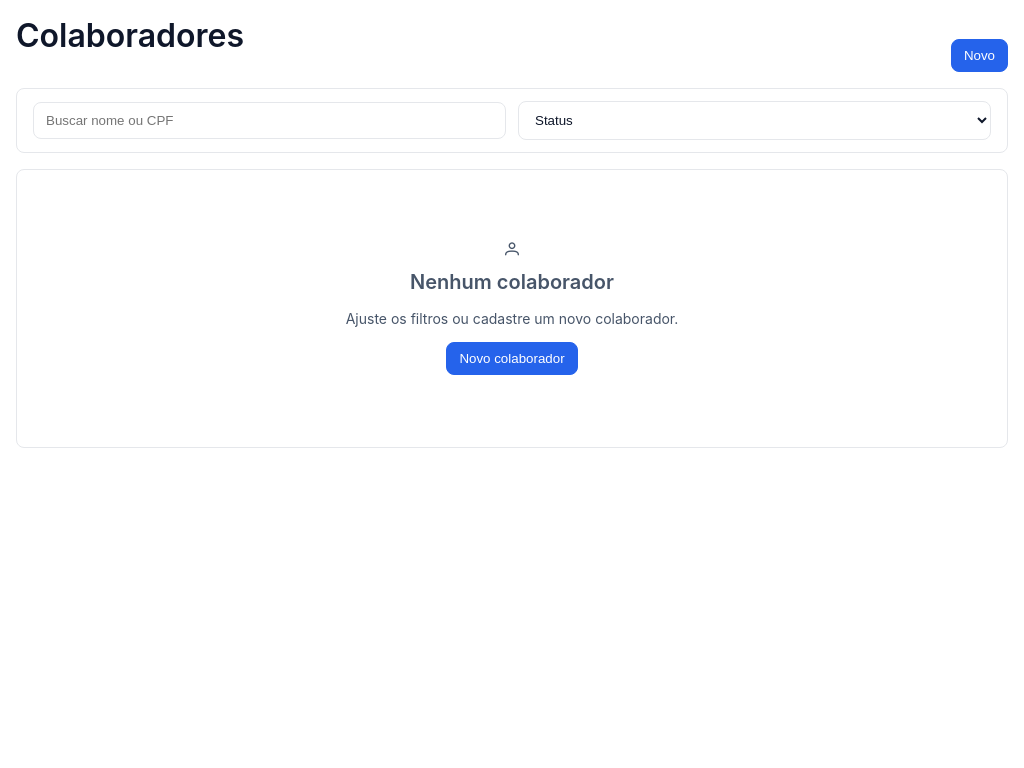
Test: Form Validation (client-only) › Collaborators: Save disabled until required fields and valid CPF (11 digits)
Open create editor
Click the button "Novo".
click(979, 56)  # box [951, 39, 1008, 72]
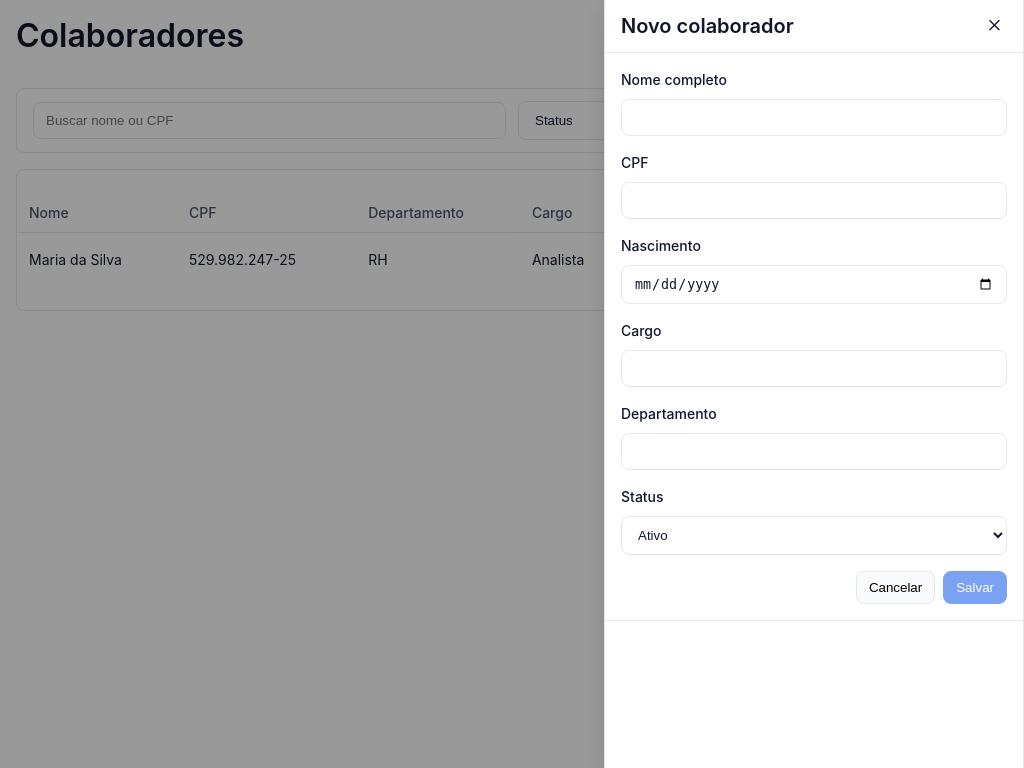
expect the submit button is disabled: met, box [943, 571, 1007, 604]
Fill required fields with invalid CPF
Type "Nome Teste" into the field with id "fullName".
click(814, 118); type("Nome Teste")  # box [621, 99, 1007, 136]
Type "1234567890" into the field with id "cpf".
click(814, 200); type("1234567890")  # box [621, 182, 1007, 219]
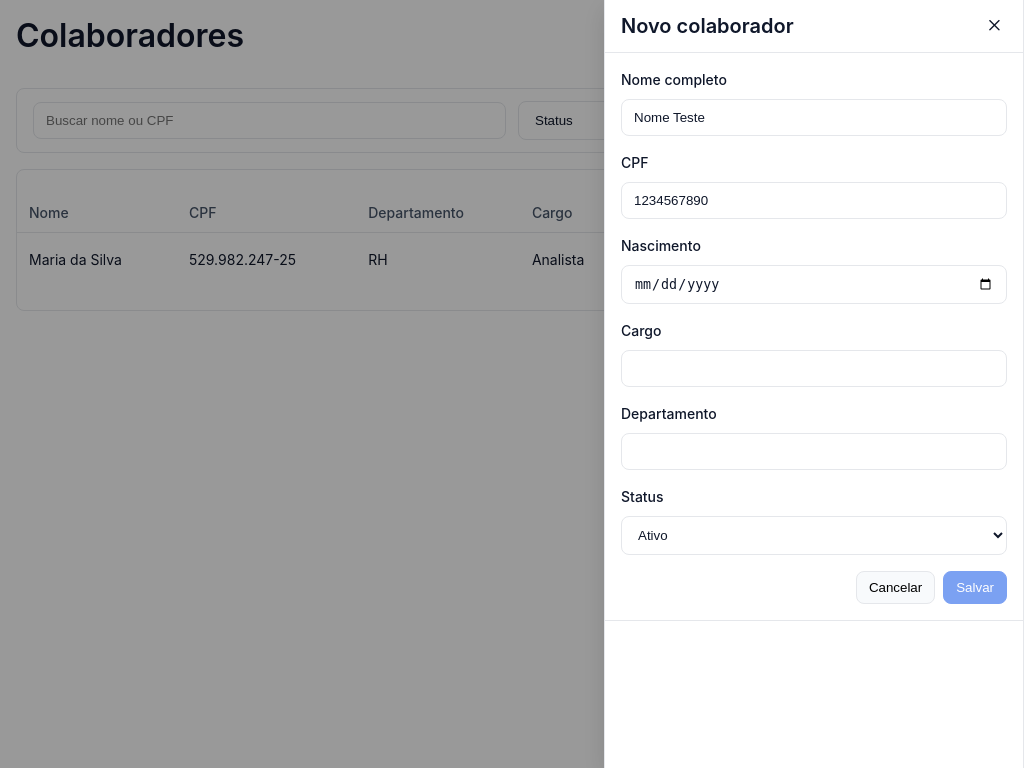
Type "1990-01-01" into the date field with id "birth".
click(814, 285); type("1990-01-01")  # box [621, 265, 1007, 304]
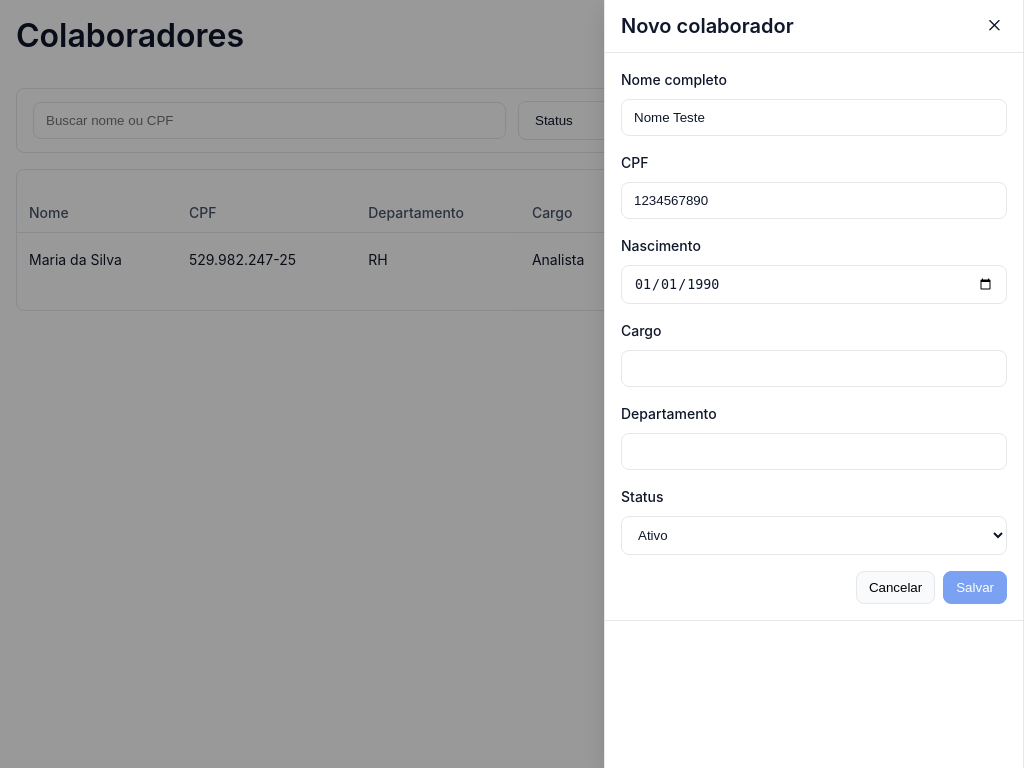
Type "Cargo" into the field labelled "Cargo".
click(814, 369); type("Cargo")  # box [621, 350, 1007, 387]
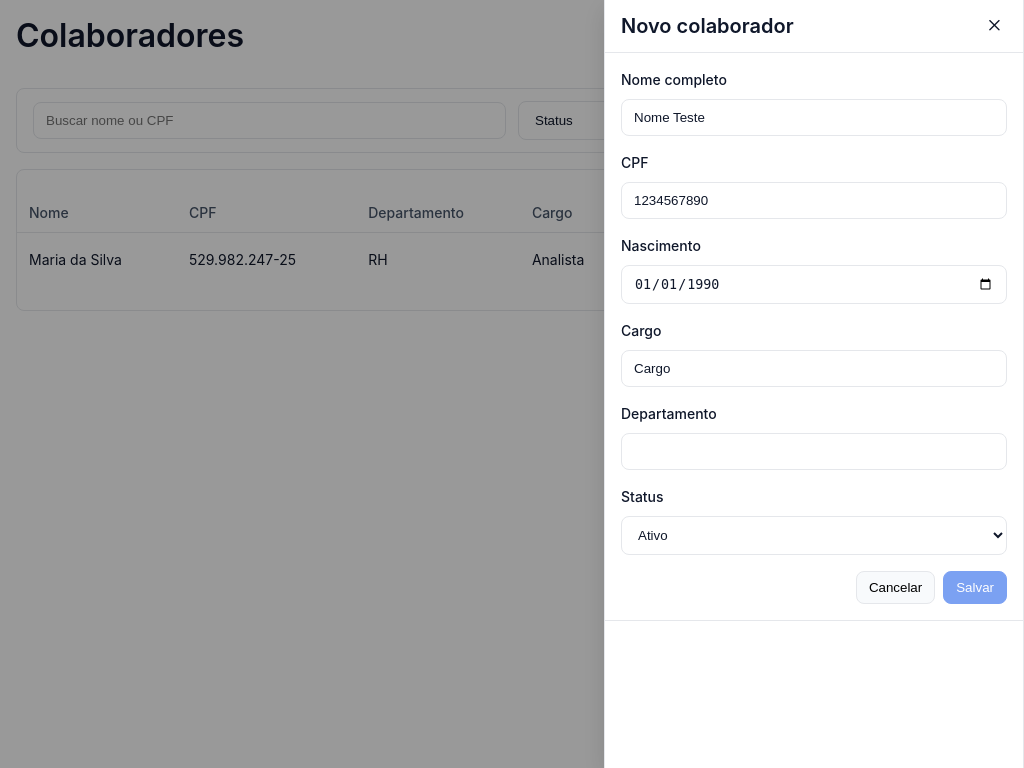
Type "Depto" into the field with id "department".
click(814, 452); type("Depto")  # box [621, 433, 1007, 470]
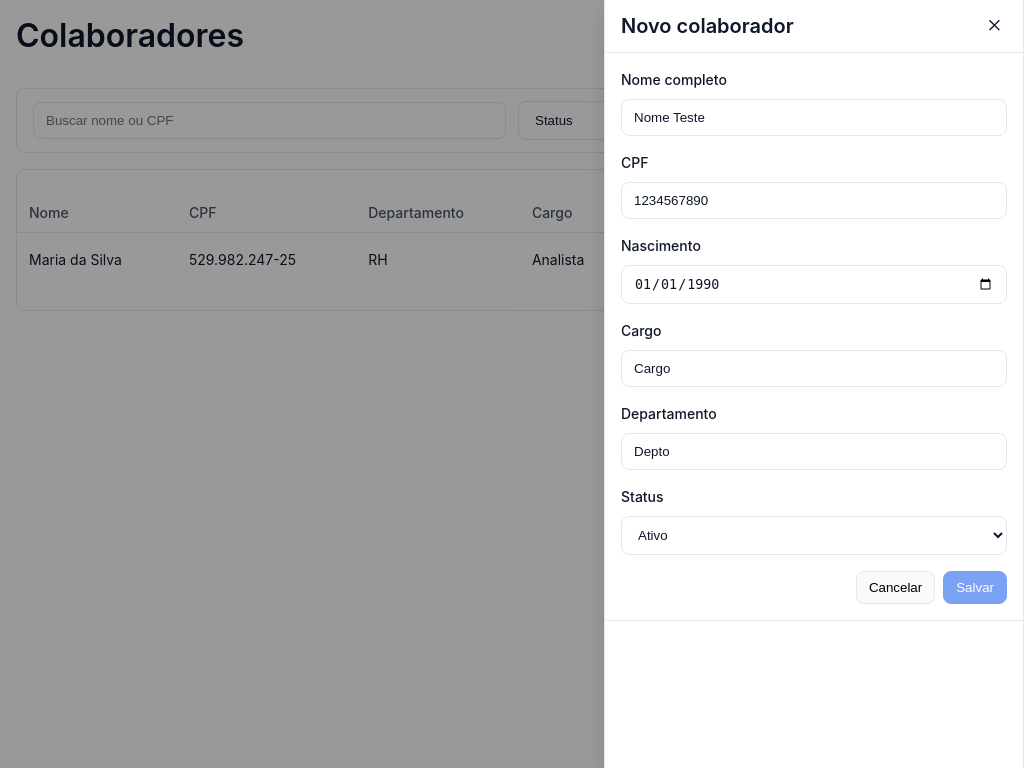
expect the submit button is disabled: met, box [943, 571, 1007, 604]
Fix CPF to 11 digits
Replace the text in the field with id "cpf" with "12345678901" at x=814, y=200, box [621, 182, 1007, 219]
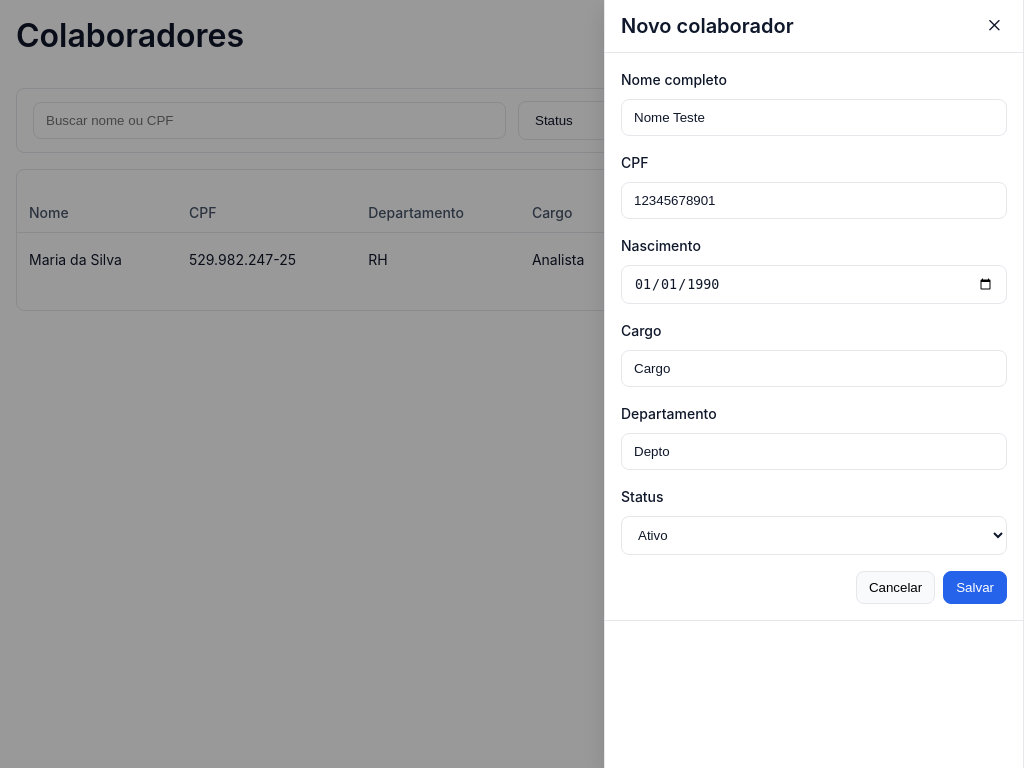
expect the submit button is enabled: met, box [943, 571, 1007, 604]
